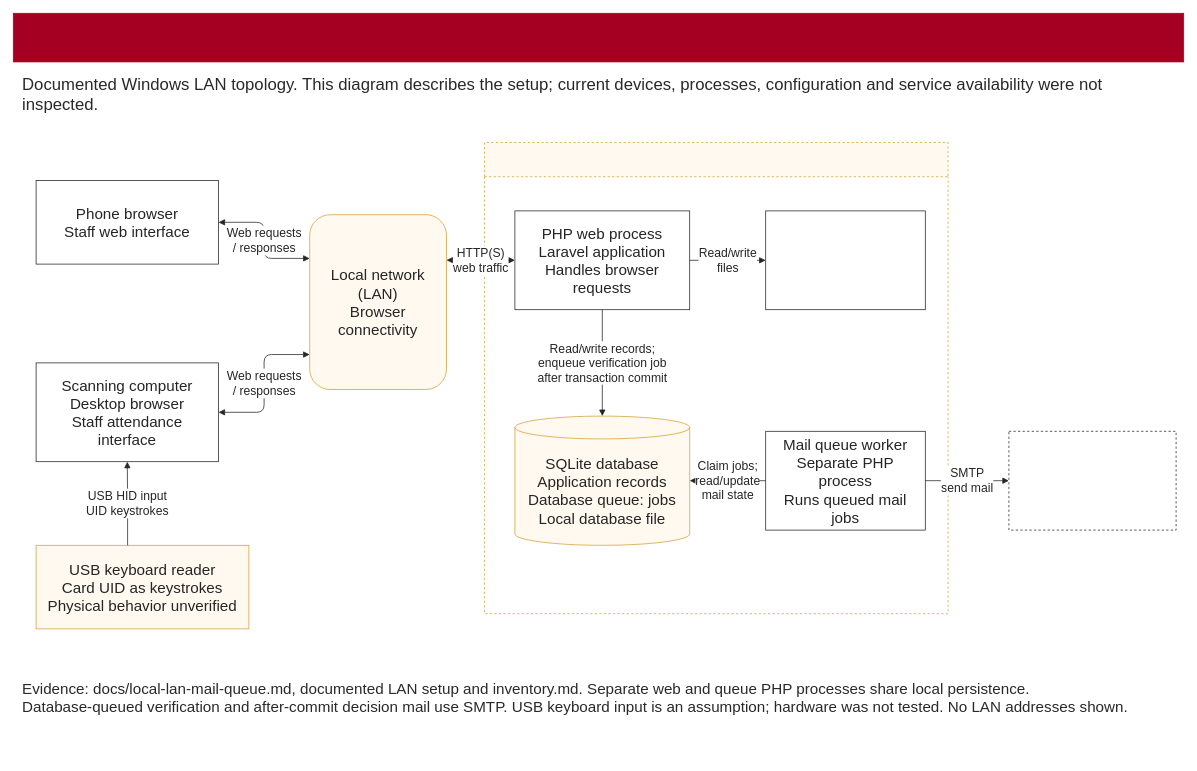
This 1197x771 diagram has some shape labels left out. The shapes that lost their labels are listed below. From the top down, each one's box as (x1, y1, x2, y2) in pixels, then its label:
(13, 13, 1184, 62): Deployment Diagram of the Proposed System
(765, 210, 925, 310): File storage Application files / uploads Local filesystem
(484, 142, 948, 614): Windows application host | runtime unverified
(1008, 431, 1176, 530): SMTP service Mail delivery transport Endpoint unverified
